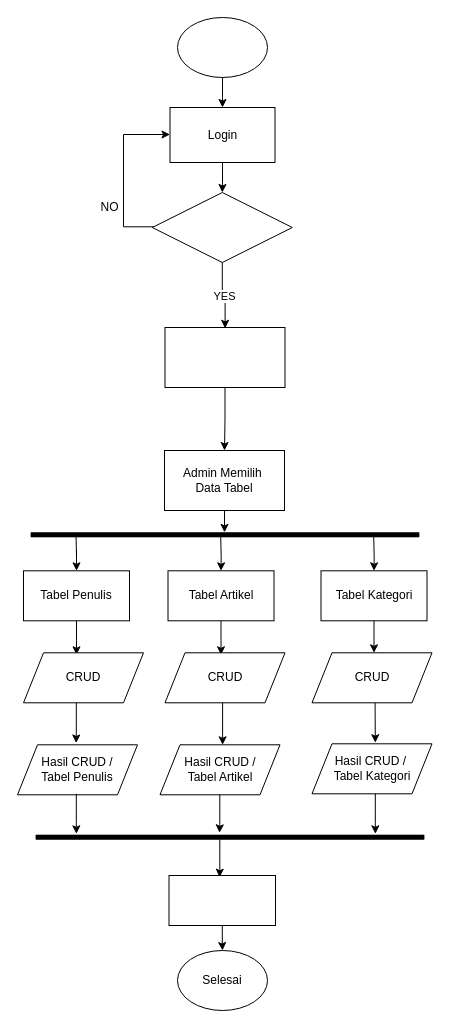
The diagram is 450 pixels wide and 1028 high, and some of its shapes have lost their labels. The shapes that lost their labels are listed below. From the top down, each one's centre as x and y in pixels, then its label:
At (222,47): "Start".
At (221,227): "Login Berhasil ?".
At (224,357): "Halaman Dashboard".
At (222,900): "Kembali Ke Halaman Dashboard".
